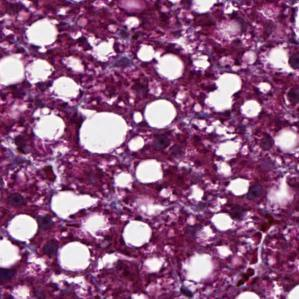steatosis: (79, 110, 129, 153), (140, 96, 178, 129)
